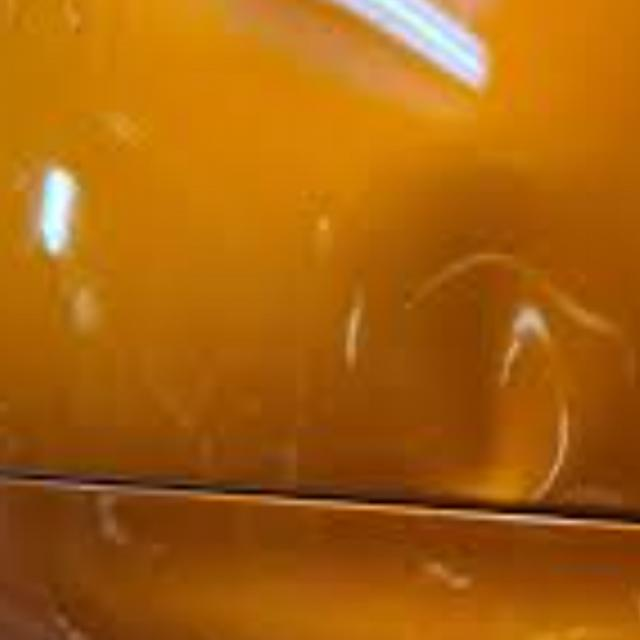dents: (376, 220, 570, 520)
